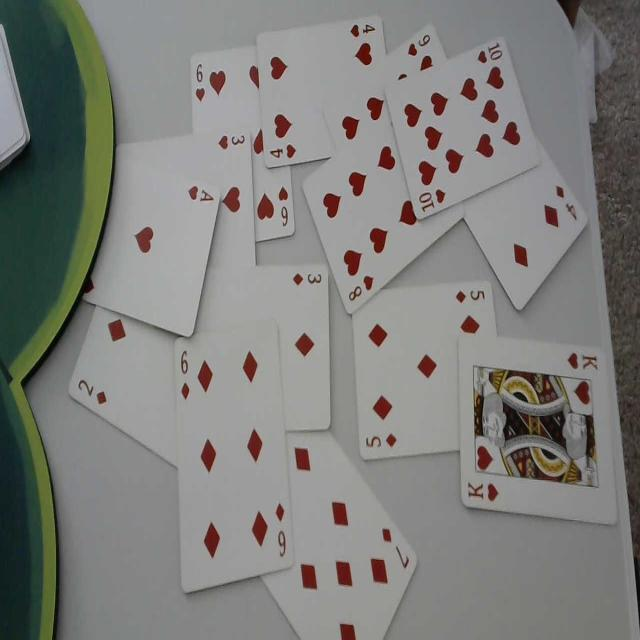10H: (418, 185, 446, 215), (477, 39, 502, 68)
2D: (76, 377, 108, 407)
3D: (292, 269, 322, 287)
3H: (218, 131, 246, 150)
4D: (554, 181, 580, 224)
4H: (268, 143, 298, 160), (348, 22, 376, 38)
5D: (364, 430, 398, 452), (454, 286, 490, 306)
6D: (274, 502, 286, 558), (179, 349, 191, 400)
6H: (277, 183, 289, 229), (194, 61, 206, 105)
7D: (380, 524, 410, 570)
8H: (347, 273, 375, 303)
9H: (407, 28, 431, 58)
AH: (186, 185, 214, 205)
KH: (466, 479, 501, 506), (567, 348, 599, 372)
